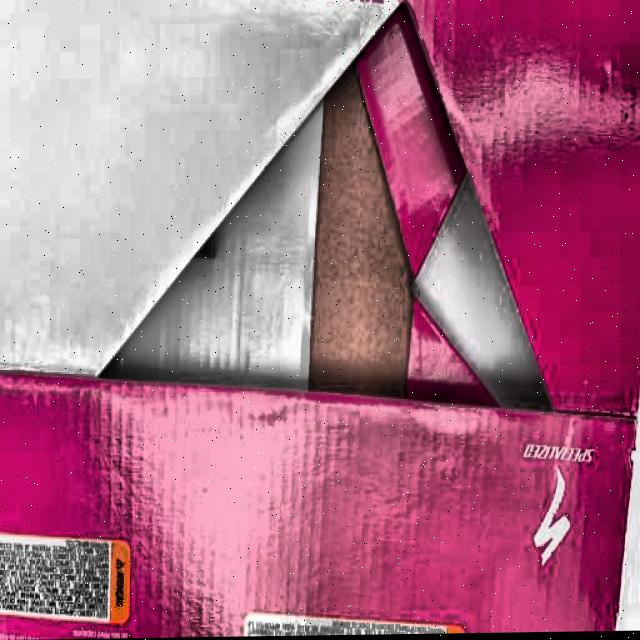cardboard: (0, 357, 637, 640)
